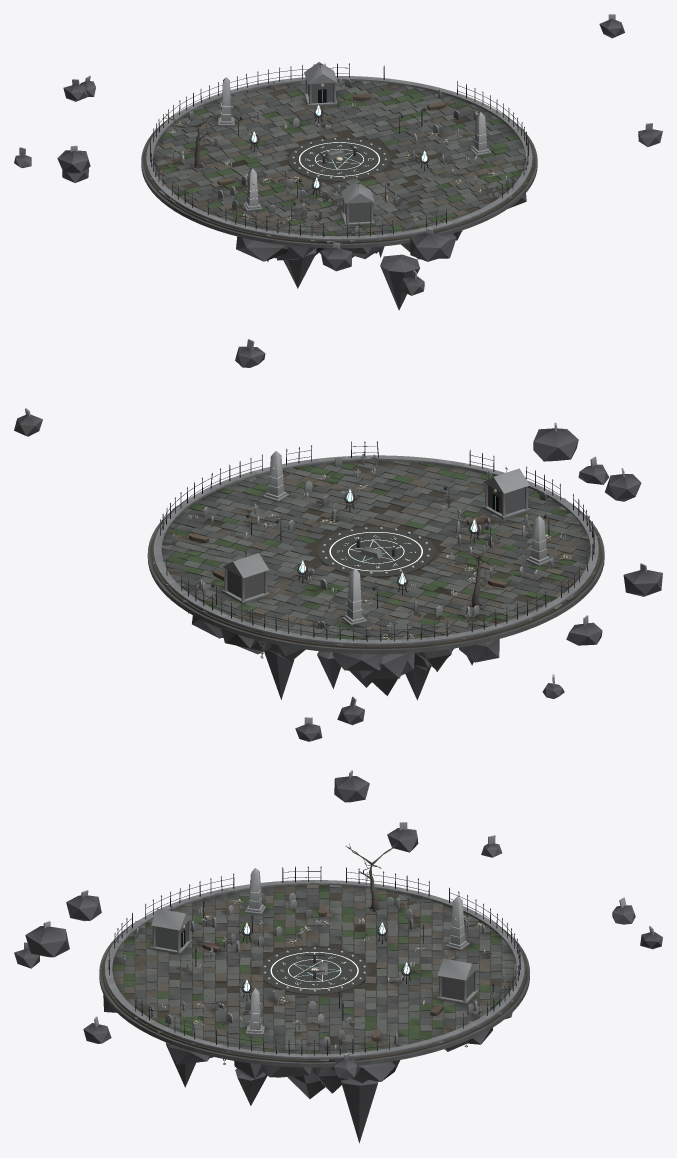
File: islands.glb
3 renders of one model, top to bottom at view 1: azimuth 30°, elevation 25°; view 2: azimuth 150°, elevation 25°; view 3: azimuth 270°, elevation 25°, orthographic. The views are drawn at different scales.
Parts seen in each view (by area): view 1: crypt_sector_7, crypt_sector_9, crypt_sector_6, crypt_sector_10, crypt_sector_1, crypt_sector_11, crypt_sector_4, crypt_sector_0, crypt_sector_5, crypt_sector_3, crypt_sector_8, crypt_core (+11 smaller); view 2: crypt_sector_4, crypt_sector_11, crypt_sector_3, crypt_sector_5, crypt_sector_6, crypt_sector_0, crypt_sector_9, crypt_sector_10, crypt_sector_2, crypt_sector_7, crypt_sector_1, crypt_core (+13 smaller); view 3: crypt_sector_11, crypt_sector_1, crypt_sector_0, crypt_sector_10, crypt_sector_9, crypt_sector_6, crypt_sector_5, crypt_sector_4, crypt_sector_8, crypt_sector_3, crypt_core, crypt_sector_7 (+12 smaller).
Boxes of the visible parts, <box> form: crypt_sector_7: <box>238,178,343,248</box>; crypt_sector_9: <box>366,171,510,235</box>; crypt_sector_6: <box>167,169,312,236</box>; crypt_sector_10: <box>384,151,537,206</box>; crypt_sector_1: <box>330,63,437,140</box>; crypt_sector_11: <box>384,107,537,162</box>; crypt_sector_4: <box>141,105,293,162</box>; crypt_sector_0: <box>364,81,508,148</box>; crypt_sector_5: <box>141,148,291,205</box>; crypt_sector_3: <box>170,76,312,149</box>; crypt_sector_8: <box>331,178,437,248</box>; crypt_core: <box>287,138,391,182</box>; crypt_sector_4: <box>366,573,495,654</box>; crypt_sector_11: <box>179,454,345,540</box>; crypt_sector_3: <box>262,574,384,654</box>; crypt_sector_5: <box>408,565,573,641</box>; crypt_sector_6: <box>427,537,604,605</box>; crypt_sector_0: <box>147,487,323,555</box>; crypt_sector_9: <box>365,441,489,529</box>; crypt_sector_10: <box>266,441,385,529</box>; crypt_sector_2: <box>178,565,347,641</box>; crypt_sector_7: <box>429,494,604,555</box>; crypt_sector_1: <box>147,548,323,605</box>; crypt_core: <box>316,526,436,577</box>; crypt_sector_11: <box>207,989,318,1067</box>; crypt_sector_1: <box>343,983,501,1055</box>; crypt_sector_0: <box>308,989,422,1067</box>; crypt_sector_10: <box>128,981,285,1055</box>; crypt_sector_9: <box>99,954,265,1021</box>; crypt_sector_6: <box>211,866,318,950</box>; crypt_sector_5: <box>308,866,414,949</box>; crypt_sector_4: <box>342,878,500,959</box>; crypt_sector_8: <box>99,912,264,974</box>; crypt_sector_3: <box>364,913,529,972</box>; crypt_core: <box>258,947,370,995</box>; crypt_sector_7: <box>129,878,285,958</box>.
Bounding box in the file's own units: 74.81 × 24.66 × 69.13.
